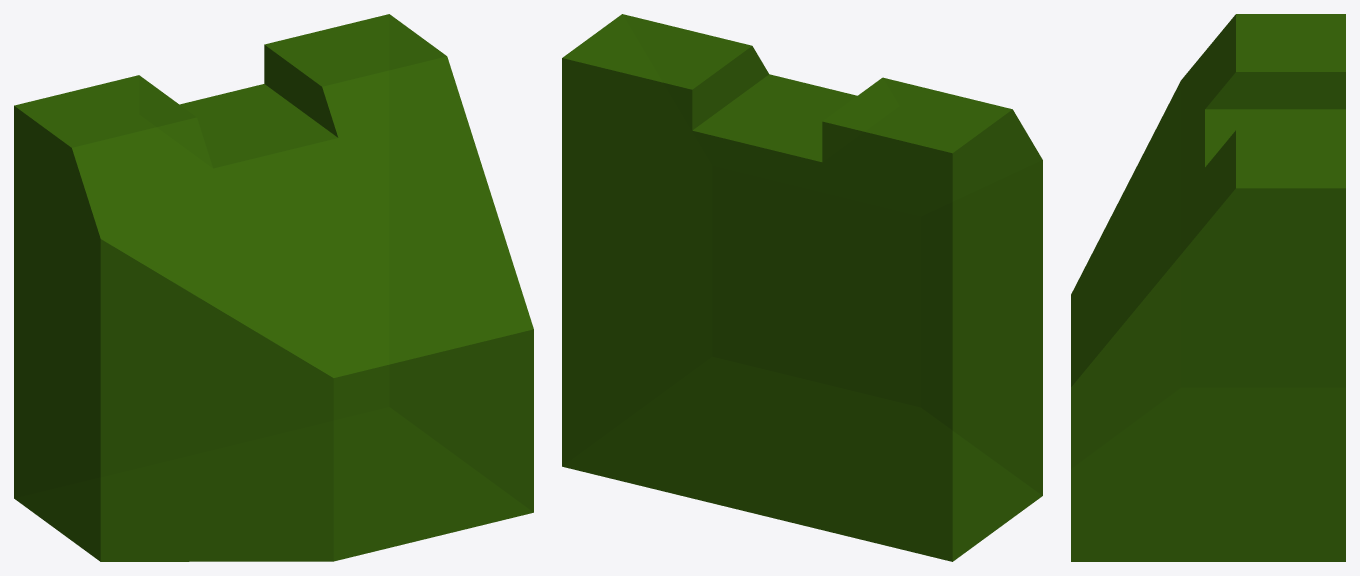
3 views of the same model, side by side, from view 1: azimuth 30°, elevation 25°; view 2: azimuth 150°, elevation 25°; view 3: azimuth 270°, elevation 25° (orthographic). The views are drawn at different scales.
Parts seen in each view (by area): view 1: SketchUp; view 2: SketchUp; view 3: SketchUp.
Part boxes in pixels (x1,y1,x2,y2): SketchUp: (14, 14, 533, 561); SketchUp: (562, 14, 1042, 561); SketchUp: (1071, 14, 1345, 561).
Bounding box in the file's own units: 1181 × 787 × 1181.
